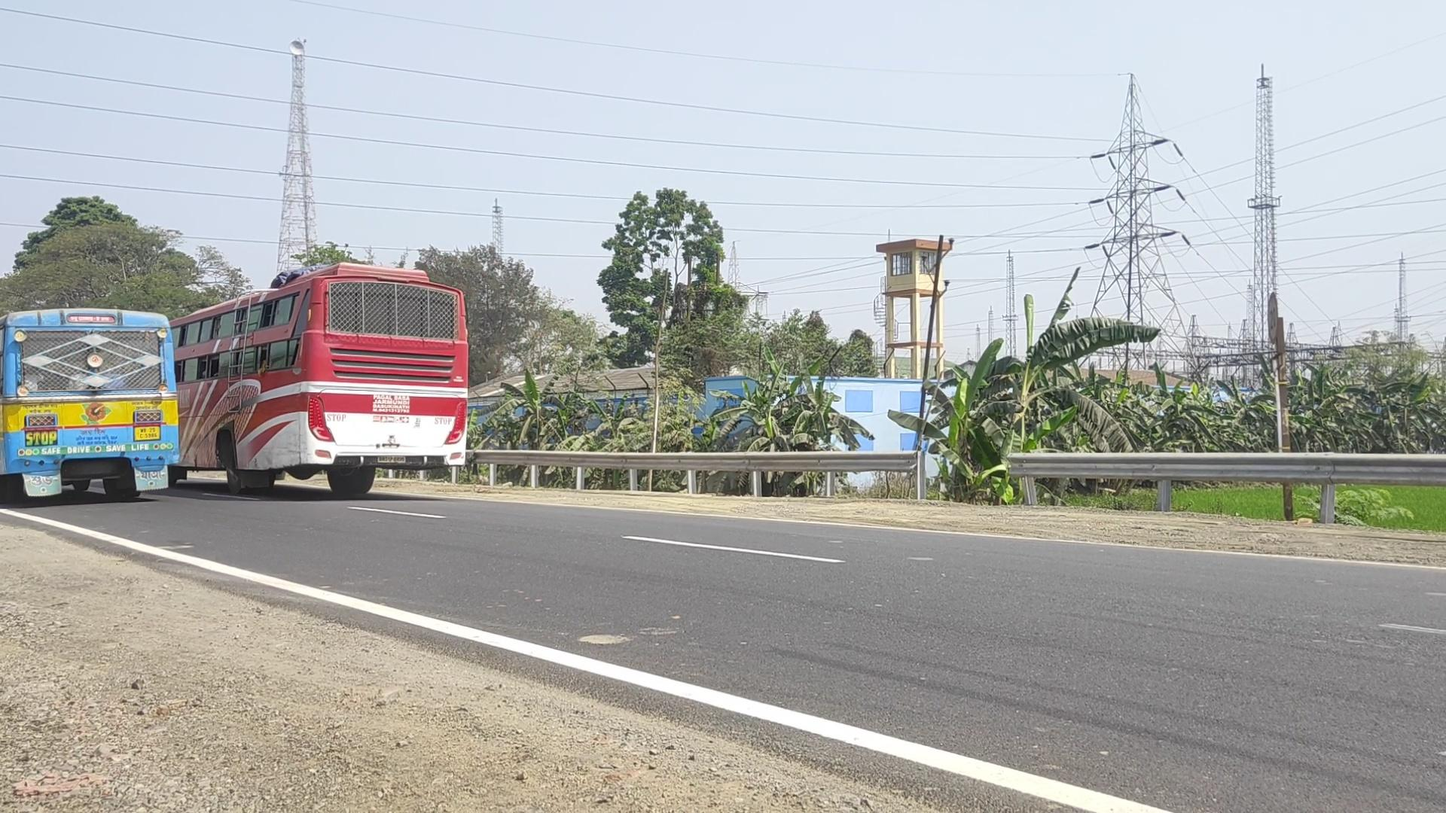Bus: (169, 262, 468, 497), (2, 307, 179, 502)
